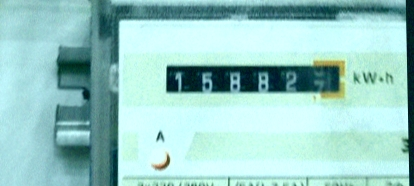1: (174, 68, 188, 90)
2: (285, 68, 301, 92)
5: (202, 67, 216, 93)
7: (315, 74, 327, 92)
8: (258, 68, 272, 93), (230, 69, 243, 92)
screen: (159, 51, 357, 110)
